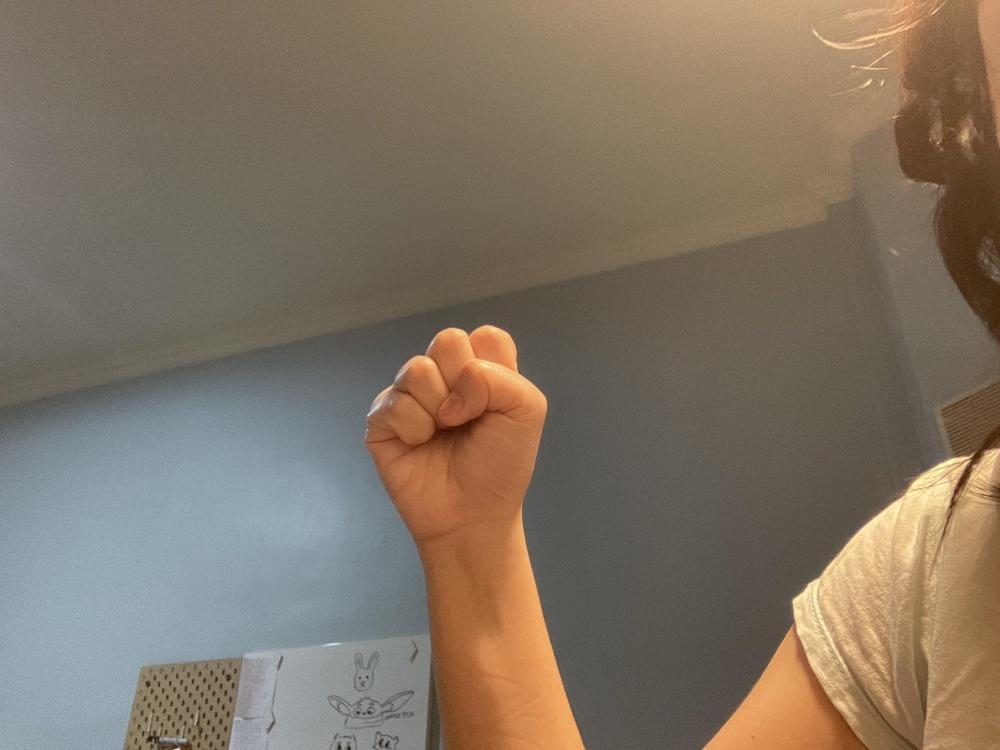s: (360, 322, 547, 543)
